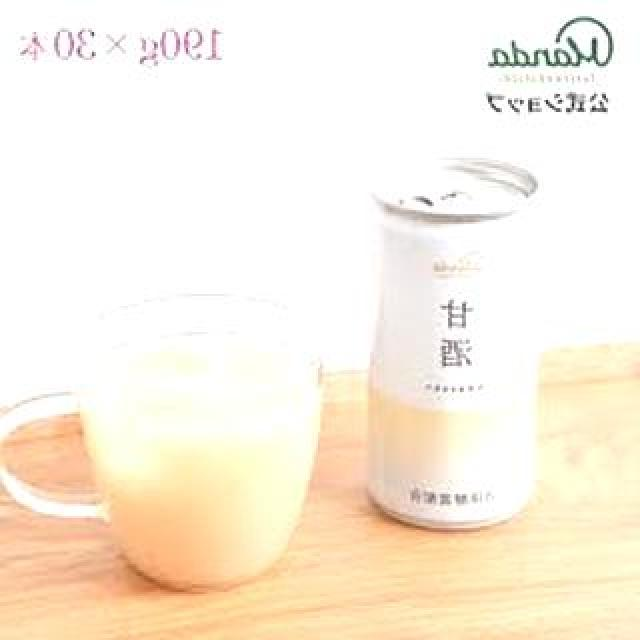Can: (372, 154, 540, 534)
